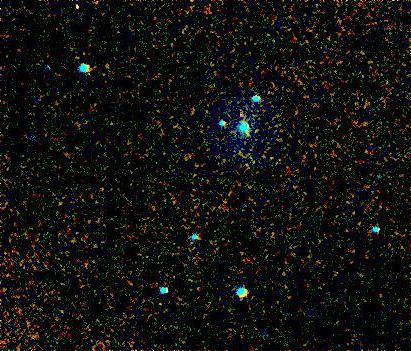star: (59, 0, 89, 19)
